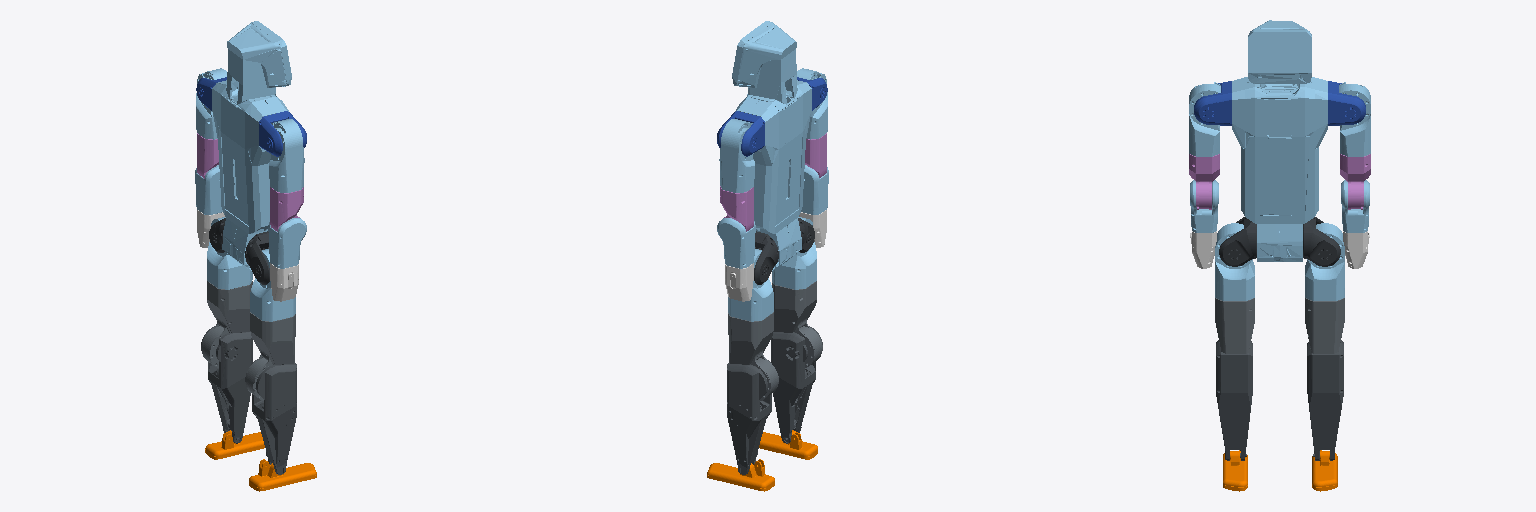
--- Facts derived from the render (not from the file) ---
3 views of the same robot in one strip: view 1: azimuth 30°, elevation 25°; view 2: azimuth 150°, elevation 25°; view 3: azimuth 270°, elevation 25° (orthographic).
Robot: kbot-v2 — 23 links, 22 joints (10 revolute, 12 fixed); root link floating_base_link; default pose: all joints at 0.
Links seen in each view (by area): view 1: KB_B_102B_TORSO_BOTTOM, KB_D_401R_R_Shin_Drive, KB_D_402L_L_Shin_Idle, KB_D_301L_L_Femur_Lower_Drive, KB_D_301R_R_Femur_Lower_Drive, RS03_5, R_Forearm_Upper_Structural, RS03_4, RS03_3, KB_D_501R_R_LEG_FOOT, L_Forearm_Upper_Drive, R_Bicep_Lower_Drive (+6 smaller); view 2: KB_B_102B_TORSO_BOTTOM, KB_D_402L_L_Shin_Idle, KB_D_401R_R_Shin_Drive, KB_D_301R_R_Femur_Lower_Drive, KB_D_301L_L_Femur_Lower_Drive, RS03_6, L_Forearm_Upper_Drive, RS03_3, RS03_4, KB_D_501L_L_LEG_FOOT, R_Forearm_Upper_Structural, L_Bicep_Lower_Drive (+6 smaller); view 3: KB_B_102B_TORSO_BOTTOM, KB_D_401R_R_Shin_Drive, KB_D_402L_L_Shin_Idle, KB_D_301R_R_Femur_Lower_Drive, KB_D_301L_L_Femur_Lower_Drive, RS03_3, RS03_4, RS03_5, RS03_6, KB_D_102R_R_Hip_Yoke_Drive, KB_D_102L_L_Hip_Yoke_Drive, YOKE_STOP_INNER (+9 smaller).
Link boxes in pixels (x1,y1,x2,y2): KB_B_102B_TORSO_BOTTOM: (212,21,291,270); KB_D_401R_R_Shin_Drive: (252,359,296,474); KB_D_402L_L_Shin_Idle: (201,326,252,443); KB_D_301L_L_Femur_Lower_Drive: (201,281,252,367); KB_D_301R_R_Femur_Lower_Drive: (245,312,295,400); RS03_5: (269,119,304,192); R_Forearm_Upper_Structural: (268,218,306,268); RS03_4: (207,217,252,289); RS03_3: (250,249,295,321); KB_D_501R_R_LEG_FOOT: (249,459,316,491); L_Forearm_Upper_Drive: (195,165,222,214); R_Bicep_Lower_Drive: (270,187,303,231); KB_B_102B_TORSO_BOTTOM: (732,21,811,270); KB_D_402L_L_Shin_Idle: (727,360,771,474); KB_D_401R_R_Shin_Drive: (771,326,822,443); KB_D_301R_R_Femur_Lower_Drive: (772,281,822,367); KB_D_301L_L_Femur_Lower_Drive: (728,312,778,400); RS03_6: (719,119,754,192); L_Forearm_Upper_Drive: (717,218,755,268); RS03_3: (772,217,816,289); RS03_4: (728,249,773,321); KB_D_501L_L_LEG_FOOT: (707,459,774,491); R_Forearm_Upper_Structural: (801,165,828,214); L_Bicep_Lower_Drive: (720,186,753,231); KB_B_102B_TORSO_BOTTOM: (1232,20,1327,261); KB_D_401R_R_Shin_Drive: (1216,340,1252,460); KB_D_402L_L_Shin_Idle: (1307,340,1343,460); KB_D_301R_R_Femur_Lower_Drive: (1215,298,1254,353); KB_D_301L_L_Femur_Lower_Drive: (1305,298,1344,353); RS03_3: (1215,223,1254,300); RS03_4: (1305,223,1344,300); RS03_5: (1189,82,1220,156); RS03_6: (1339,82,1370,156); KB_D_102R_R_Hip_Yoke_Drive: (1219,217,1256,266); KB_D_102L_L_Hip_Yoke_Drive: (1303,217,1340,266); YOKE_STOP_INNER: (1194,81,1231,125).
Bounding box of the posed robot: 0.2262 × 0.5159 × 1.4 m (x, y, z).
Meshes: 22 distinct files referenced, 22 mesh visuals loaded (22 binary STL).

robot.urdf — kbot-v2:
<robot name="kbot-v2">
  <link name="floating_base_link">
  </link>
  <joint name="floating_base_joint" type="fixed">
    <parent link="floating_base_link" />
    <child link="KB_B_102B_TORSO_BOTTOM" />
    <origin xyz="0 0 0" rpy="0.00 0.00 -1.570796" />
  </joint>
  <joint name="right_shoulder_pitch_03" type="fixed">
    <origin xyz="0.120950 -0.000737 0.337507" rpy="-1.570796 0 1.570796" />
    <parent link="KB_B_102B_TORSO_BOTTOM" />
    <child link="YOKE_STOP_INNER" />
    <limit effort="60" velocity="6.283" lower="-2.617994" upper="2.094395" />
    <axis xyz="0 0 1" />
  </joint>
  <joint name="left_shoulder_pitch_03" type="fixed">
    <origin xyz="-0.120950 -0.000737 0.337507" rpy="1.570796 0 1.570796" />
    <parent link="KB_B_102B_TORSO_BOTTOM" />
    <child link="YOKE_STOP_INNER_2" />
    <limit effort="60" velocity="6.283" lower="-2.094395" upper="2.617994" />
    <axis xyz="0 0 1" />
  </joint>
  <joint name="right_hip_pitch_04" type="revolute">
    <origin xyz="0.056000 -0.000737 -0.072993" rpy="1.570796 0 -1.570796" />
    <parent link="KB_B_102B_TORSO_BOTTOM" />
    <child link="KB_D_102R_R_Hip_Yoke_Drive" />
    <limit effort="60" velocity="18" lower="-1.919862" upper="1.570796" />
    <axis xyz="0 0 1" />
  <dynamics damping="0.0" friction="0" /></joint>
  <joint name="left_hip_pitch_04" type="revolute">
    <origin xyz="-0.056000 -0.000737 -0.072993" rpy="-1.570796 0 -1.570796" />
    <parent link="KB_B_102B_TORSO_BOTTOM" />
    <child link="KB_D_102L_L_Hip_Yoke_Drive" />
    <limit effort="60" velocity="18" lower="-1.570796" upper="1.919862" />
    <axis xyz="0 0 1" />
  <dynamics damping="0.0" friction="0" /></joint>
  <joint name="right_hip_roll_03" type="revolute">
    <origin xyz="-0.028250 -0.030000 -0.071000" rpy="0 -1.570796 0" />
    <parent link="KB_D_102R_R_Hip_Yoke_Drive" />
    <child link="RS03_3" />
    <limit effort="40" velocity="18" lower="0" upper="2.268928" />
    <axis xyz="0 0 -1.0" />
  <dynamics damping="0.0" friction="0" /></joint>
  <joint name="left_hip_roll_03" type="revolute">
    <origin xyz="-0.028250 0.030000 -0.071000" rpy="3.141593 1.570796 0" />
    <parent link="KB_D_102L_L_Hip_Yoke_Drive" />
    <child link="RS03_4" />
    <limit effort="40" velocity="18" lower="-2.268928" upper="0" />
    <axis xyz="0 0 -1.0" />
  <dynamics damping="0.0" friction="0" /></joint>
  <joint name="imu_link" type="fixed">
    <origin xyz="-0.028807 -0.009800 0.452404" rpy="1.570796 0 -1.570796" />
    <parent link="KB_B_102B_TORSO_BOTTOM" />
    <child link="imu" />
  </joint>
  <joint name="right_shoulder_roll_03" type="fixed">
    <origin xyz="0.024250 0 -0.080000" rpy="-3.141593 -1.570796 0" />
    <parent link="YOKE_STOP_INNER" />
    <child link="RS03_5" />
    <limit effort="60" velocity="6.283" lower="-0.488692" upper="1.658063" />
    <axis xyz="0 0 -1.0" />
  </joint>
  <joint name="left_shoulder_roll_03" type="fixed">
    <origin xyz="0.024250 0 -0.080000" rpy="0 1.570796 0" />
    <parent link="YOKE_STOP_INNER_2" />
    <child link="RS03_6" />
    <limit effort="60" velocity="6.283" lower="-1.658063" upper="0.488692" />
    <axis xyz="0 0 -1.0" />
  </joint>
  <joint name="right_hip_yaw_03" type="revolute">
    <origin xyz="0 -0.142750 -0.029800" rpy="1.570796 0 0" />
    <parent link="RS03_3" />
    <child link="KB_D_301R_R_Femur_Lower_Drive" />
    <limit effort="40" velocity="18" lower="-1.570796" upper="1.570796" />
    <axis xyz="0 0 -1" />
  <dynamics damping="0.0" friction="0" /></joint>
  <joint name="right_shoulder_yaw_02" type="fixed">
    <origin xyz="-0.013000 -0.142000 -0.030250" rpy="-1.570796 0 0" />
    <parent link="RS03_5" />
    <child link="R_Bicep_Lower_Drive" />
    <limit effort="17" velocity="12.566" lower="-1.745329" upper="1.745329" />
    <axis xyz="0 0 1" />
  </joint>
  <joint name="left_hip_yaw_03" type="revolute">
    <origin xyz="0 -0.142750 -0.029800" rpy="1.570796 0 0" />
    <parent link="RS03_4" />
    <child link="KB_D_301L_L_Femur_Lower_Drive" />
    <limit effort="40" velocity="18" lower="-1.570796" upper="1.570796" />
    <axis xyz="0 0 -1" />
  <dynamics damping="0.0" friction="0" /></joint>
  <joint name="left_shoulder_yaw_02" type="fixed">
    <origin xyz="0.013000 -0.142000 -0.030250" rpy="-1.570796 0 0" />
    <parent link="RS03_6" />
    <child link="L_Bicep_Lower_Drive" />
    <limit effort="17" velocity="12.566" lower="-1.745329" upper="1.745329" />
    <axis xyz="0 0 1" />
  </joint>
  <joint name="right_knee_04" type="revolute">
    <origin xyz="0.020600 -0.021000 0.212000" rpy="1.570796 0 -1.570796" />
    <parent link="KB_D_301R_R_Femur_Lower_Drive" />
    <child link="KB_D_401R_R_Shin_Drive" />
    <limit effort="60" velocity="18" lower="-2.705260" upper="0" />
    <axis xyz="0 0 1" />
  <dynamics damping="0.0" friction="0" /></joint>
  <joint name="right_elbow_02" type="fixed">
    <origin xyz="0.018500 -0.010000 -0.137000" rpy="-1.570796 0 1.570796" />
    <parent link="R_Bicep_Lower_Drive" />
    <child link="R_Forearm_Upper_Structural" />
    <limit effort="17" velocity="12.566" lower="0" upper="2.530727" />
    <axis xyz="0 0 1" />
  </joint>
  <joint name="left_knee_04" type="revolute">
    <origin xyz="0.043200 -0.021000 0.212000" rpy="-1.570796 0 -1.570796" />
    <parent link="KB_D_301L_L_Femur_Lower_Drive" />
    <child link="KB_D_402L_L_Shin_Idle" />
    <limit effort="60" velocity="18" lower="0" upper="2.705260" />
    <axis xyz="0 0 1.0" />
  <dynamics damping="0.0" friction="0" /></joint>
  <joint name="right_wrist_02" type="fixed">
    <origin xyz="0.017350 0.107700 0.018000" rpy="1.570796 1.570796 0" />
    <parent link="R_Forearm_Upper_Structural" />
    <child link="KB_C_501X_Bayonet_Adapter_Hard_Stop" />
    <limit effort="17" velocity="12.566" lower="-1.745329" upper="1.745329" />
    <axis xyz="0 0 1" />
  </joint>
  <joint name="left_elbow_02" type="fixed">
    <origin xyz="-0.018500 -0.010000 -0.137000" rpy="1.570796 0 1.570796" />
    <parent link="L_Bicep_Lower_Drive" />
    <child link="L_Forearm_Upper_Drive" />
    <limit effort="17" velocity="12.566" lower="-2.530727" upper="0" />
    <axis xyz="0 0 1" />
  </joint>
  <joint name="right_ankle_02" type="revolute">
    <origin xyz="-0.031300 0.292500 0.034000" rpy="0 0 0" />
    <parent link="KB_D_401R_R_Shin_Drive" />
    <child link="KB_D_501R_R_LEG_FOOT" />
    <limit effort="17" velocity="18" lower="-0.296706" upper="0.785398" />
    <axis xyz="0 0 1" />
  <dynamics damping="0.0" friction="0.1" /></joint>
  <joint name="left_ankle_02" type="revolute">
    <origin xyz="-0.031300 -0.292500 -0.057200" rpy="0 0 0" />
    <parent link="KB_D_402L_L_Shin_Idle" />
    <child link="KB_D_501L_L_LEG_FOOT" />
    <limit effort="17" velocity="18" lower="-0.785398" upper="0.296706" />
    <axis xyz="0 0 1.0" />
  <dynamics damping="0.0" friction="0.1" /></joint>
  <joint name="left_wrist_02" type="fixed">
    <origin xyz="0.017350 -0.106500 0.018000" rpy="1.570796 -1.570796 0" />
    <parent link="L_Forearm_Upper_Drive" />
    <child link="KB_C_501X_Bayonet_Adapter_Hard_Stop_2" />
    <limit effort="17" velocity="12.566" lower="-1.745329" upper="1.745329" />
    <axis xyz="0 0 -1" />
  </joint>
  <link name="KB_B_102B_TORSO_BOTTOM">
    <visual name="KB_B_102B_TORSO_BOTTOM_visual">
      <origin xyz="0 0 0" rpy="0 0 0" />
      <geometry name="KB_B_102B_TORSO_BOTTOM_geometry">
        <mesh filename="meshes/KB_B_102B_TORSO_BOTTOM.stl" />
      </geometry>
      <material name="KB_B_102B_TORSO_BOTTOM_material">
        <color rgba="0.615686 0.811765 0.929412 1" />
      </material>
    </visual>
    <collision name="KB_B_102B_TORSO_BOTTOM.collision">
      <origin xyz="0 0 0" rpy="0 0 0" />
      <geometry name="KB_B_102B_TORSO_BOTTOM_collision_geometry">
        <mesh filename="meshes/KB_B_102B_TORSO_BOTTOM.collision.stl" />
      </geometry>
    </collision>
    <inertial name="KB_B_102B_TORSO_BOTTOM_inertial">
      <mass value="15.673149" />
      <inertia ixx="0.641650" iyy="0.678247" izz="0.075462" ixy="-0.000140" ixz="-0.001514" iyz="-0.014715" />
      <origin xyz="0.000403 0.002187 0.165184" rpy="0 0 0" />
    </inertial>
  </link>
  <link name="YOKE_STOP_INNER">
    <visual name="YOKE_STOP_INNER_visual">
      <origin xyz="0 0 0" rpy="0 0 0" />
      <geometry name="YOKE_STOP_INNER_geometry">
        <mesh filename="meshes/YOKE_STOP_INNER.stl" />
      </geometry>
      <material name="YOKE_STOP_INNER_material">
        <color rgba="0.231373 0.380392 0.705882 1" />
      </material>
    </visual>
    <inertial name="YOKE_STOP_INNER_inertial">
      <mass value="0.585630" />
      <inertia ixx="0.001005" iyy="0.001376" izz="0.001140" ixy="-0.000021" ixz="0.000099" iyz="0.000039" />
      <origin xyz="0.006667 -0.003840 -0.041983" rpy="0 0 0" />
    </inertial>
  </link>
  <link name="YOKE_STOP_INNER_2">
    <visual name="YOKE_STOP_INNER_visual_2">
      <origin xyz="0 0 0" rpy="0 0 0" />
      <geometry name="YOKE_STOP_INNER_geometry_2">
        <mesh filename="meshes/YOKE_STOP_INNER_2.stl" />
      </geometry>
      <material name="YOKE_STOP_INNER_material_2">
        <color rgba="0.231373 0.380392 0.705882 1" />
      </material>
    </visual>
    <inertial name="YOKE_STOP_INNER_inertial_2">
      <mass value="0.585652" />
      <inertia ixx="0.001005" iyy="0.001370" izz="0.001134" ixy="0.000021" ixz="0.000101" iyz="-0.000039" />
      <origin xyz="0.006762 0.003839 -0.041982" rpy="0 0 0" />
    </inertial>
  </link>
  <link name="KB_D_102R_R_Hip_Yoke_Drive">
    <visual name="KB_D_102R_R_Hip_Yoke_Drive_visual">
      <origin xyz="0 0 0" rpy="0 0 0" />
      <geometry name="KB_D_102R_R_Hip_Yoke_Drive_geometry">
        <mesh filename="meshes/KB_D_102R_R_Hip_Yoke_Drive.stl" />
      </geometry>
      <material name="KB_D_102R_R_Hip_Yoke_Drive_material">
        <color rgba="0.262745 0.282353 0.301961 1" />
      </material>
    </visual>
    <inertial name="KB_D_102R_R_Hip_Yoke_Drive_inertial">
      <mass value="0.710534" />
      <inertia ixx="0.001285" iyy="0.001550" izz="0.001729" ixy="-0.000087" ixz="-0.000094" iyz="-0.000252" />
      <origin xyz="-0.005187 -0.002374 -0.039157" rpy="0 0 0" />
    </inertial>
  </link>
  <link name="KB_D_102L_L_Hip_Yoke_Drive">
    <visual name="KB_D_102L_L_Hip_Yoke_Drive_visual">
      <origin xyz="0 0 0" rpy="0 0 0" />
      <geometry name="KB_D_102L_L_Hip_Yoke_Drive_geometry">
        <mesh filename="meshes/KB_D_102L_L_Hip_Yoke_Drive.stl" />
      </geometry>
      <material name="KB_D_102L_L_Hip_Yoke_Drive_material">
        <color rgba="0.262745 0.282353 0.301961 1" />
      </material>
    </visual>
    <inertial name="KB_D_102L_L_Hip_Yoke_Drive_inertial">
      <mass value="0.710534" />
      <inertia ixx="0.001287" iyy="0.001544" izz="0.001726" ixy="0.000087" ixz="-0.000096" iyz="0.000253" />
      <origin xyz="-0.005269 0.002433 -0.039157" rpy="0 0 0" />
    </inertial>
  </link>
  <link name="RS03_3">
    <visual name="RS03_visual_3">
      <origin xyz="0 0 0" rpy="0 0 0" />
      <geometry name="RS03_geometry_3">
        <mesh filename="meshes/RS03_3.stl" />
      </geometry>
      <material name="RS03_material_3">
        <color rgba="0.615686 0.811765 0.929412 1" />
      </material>
    </visual>
    <collision name="RS03.collision_3">
      <origin xyz="0 0 0" rpy="0 0 0" />
      <geometry name="RS03_collision_geometry_3">
        <mesh filename="meshes/RS03_3.collision.stl" />
      </geometry>
    </collision>
    <inertial name="RS03_inertial_3">
      <mass value="2.590316" />
      <inertia ixx="0.011063" iyy="0.003804" izz="0.011580" ixy="-0.000058" ixz="0.000001" iyz="-0.000098" />
      <origin xyz="-0.000677 -0.058256 -0.028289" rpy="0 0 0" />
    </inertial>
  </link>
  <link name="RS03_4">
    <visual name="RS03_visual_4">
      <origin xyz="0 0 0" rpy="0 0 0" />
      <geometry name="RS03_geometry_4">
        <mesh filename="meshes/RS03_4.stl" />
      </geometry>
      <material name="RS03_material_4">
        <color rgba="0.615686 0.811765 0.929412 1" />
      </material>
    </visual>
    <collision name="RS03.collision_4">
      <origin xyz="0 0 0" rpy="0 0 0" />
      <geometry name="RS03_collision_geometry_4">
        <mesh filename="meshes/RS03_4.collision.stl" />
      </geometry>
    </collision>
    <inertial name="RS03_inertial_4">
      <mass value="2.590429" />
      <inertia ixx="0.011064" iyy="0.003804" izz="0.011580" ixy="0.000058" ixz="0" iyz="-0.000098" />
      <origin xyz="0.000677 -0.058257 -0.028289" rpy="0 0 0" />
    </inertial>
  </link>
  <link name="imu">
    <visual name="imu_visual">
      <origin xyz="0 0 0" rpy="0 0 0" />
      <geometry name="imu_geometry">
        <mesh filename="meshes/imu.stl" />
      </geometry>
      <material name="imu_material">
        <color rgba="0.615686 0.811765 0.929412 1" />
      </material>
    </visual>
    <inertial name="imu_inertial">
      <mass value="0.005700" />
      <inertia ixx="0.000001" iyy="0.000001" izz="0.000002" ixy="0" ixz="0" iyz="0" />
      <origin xyz="0.012000 -0.014737 0.003000" rpy="0 0 0" />
    </inertial>
  </link>
  <link name="RS03_5">
    <visual name="RS03_visual_5">
      <origin xyz="0 0 0" rpy="0 0 0" />
      <geometry name="RS03_geometry_5">
        <mesh filename="meshes/RS03_5.stl" />
      </geometry>
      <material name="RS03_material_5">
        <color rgba="0.615686 0.811765 0.929412 1" />
      </material>
    </visual>
    <collision name="RS03.collision_5">
      <origin xyz="0 0 0" rpy="0 0 0" />
      <geometry name="RS03_collision_geometry_5">
        <mesh filename="meshes/RS03_5.collision.stl" />
      </geometry>
    </collision>
    <inertial name="RS03_inertial_5">
      <mass value="1.888573" />
      <inertia ixx="0.007759" iyy="0.002169" izz="0.008277" ixy="-0.000685" ixz="-0.000014" iyz="-0.000022" />
      <origin xyz="-0.005670 -0.043712 -0.030222" rpy="0 0 0" />
    </inertial>
  </link>
  <link name="RS03_6">
    <visual name="RS03_visual_6">
      <origin xyz="0 0 0" rpy="0 0 0" />
      <geometry name="RS03_geometry_6">
        <mesh filename="meshes/RS03_6.stl" />
      </geometry>
      <material name="RS03_material_6">
        <color rgba="0.615686 0.811765 0.929412 1" />
      </material>
    </visual>
    <collision name="RS03.collision_6">
      <origin xyz="0 0 0" rpy="0 0 0" />
      <geometry name="RS03_collision_geometry_6">
        <mesh filename="meshes/RS03_6.collision.stl" />
      </geometry>
    </collision>
    <inertial name="RS03_inertial_6">
      <mass value="1.888599" />
      <inertia ixx="0.007765" iyy="0.002169" izz="0.008283" ixy="0.000686" ixz="0.000014" iyz="-0.000022" />
      <origin xyz="0.005670 -0.043728 -0.030222" rpy="0 0 0" />
    </inertial>
  </link>
  <link name="KB_D_301R_R_Femur_Lower_Drive">
    <visual name="KB_D_301R_R_Femur_Lower_Drive_visual">
      <origin xyz="0 0 0" rpy="0 0 0" />
      <geometry name="KB_D_301R_R_Femur_Lower_Drive_geometry">
        <mesh filename="meshes/KB_D_301R_R_Femur_Lower_Drive.stl" />
      </geometry>
      <material name="KB_D_301R_R_Femur_Lower_Drive_material">
        <color rgba="0.439216 0.474510 0.501961 1" />
      </material>
    </visual>
    <inertial name="KB_D_301R_R_Femur_Lower_Drive_inertial">
      <mass value="2.556834" />
      <inertia ixx="0.018026" iyy="0.016368" izz="0.004729" ixy="-0.000235" ixz="0.001247" iyz="0.001844" />
      <origin xyz="0.000139 -0.010511 0.162474" rpy="0 0 0" />
    </inertial>
  </link>
  <link name="R_Bicep_Lower_Drive">
    <visual name="R_Bicep_Lower_Drive_visual">
      <origin xyz="0 0 0" rpy="0 0 0" />
      <geometry name="R_Bicep_Lower_Drive_geometry">
        <mesh filename="meshes/R_Bicep_Lower_Drive.stl" />
      </geometry>
      <material name="R_Bicep_Lower_Drive_material">
        <color rgba="0.764706 0.545098 0.803922 1" />
      </material>
    </visual>
    <inertial name="R_Bicep_Lower_Drive_inertial">
      <mass value="0.863923" />
      <inertia ixx="0.003004" iyy="0.002789" izz="0.000894" ixy="-0.000019" ixz="-0.000191" iyz="-0.000163" />
      <origin xyz="0.001741 -0.003128 -0.096105" rpy="0 0 0" />
    </inertial>
  </link>
  <link name="KB_D_301L_L_Femur_Lower_Drive">
    <visual name="KB_D_301L_L_Femur_Lower_Drive_visual">
      <origin xyz="0 0 0" rpy="0 0 0" />
      <geometry name="KB_D_301L_L_Femur_Lower_Drive_geometry">
        <mesh filename="meshes/KB_D_301L_L_Femur_Lower_Drive.stl" />
      </geometry>
      <material name="KB_D_301L_L_Femur_Lower_Drive_material">
        <color rgba="0.439216 0.474510 0.501961 1" />
      </material>
    </visual>
    <inertial name="KB_D_301L_L_Femur_Lower_Drive_inertial">
      <mass value="2.556767" />
      <inertia ixx="0.018025" iyy="0.016367" izz="0.004728" ixy="0.000234" ixz="-0.001247" iyz="0.001844" />
      <origin xyz="-0.000139 -0.010511 0.162476" rpy="0 0 0" />
    </inertial>
  </link>
  <link name="L_Bicep_Lower_Drive">
    <visual name="L_Bicep_Lower_Drive_visual">
      <origin xyz="0 0 0" rpy="0 0 0" />
      <geometry name="L_Bicep_Lower_Drive_geometry">
        <mesh filename="meshes/L_Bicep_Lower_Drive.stl" />
      </geometry>
      <material name="L_Bicep_Lower_Drive_material">
        <color rgba="0.764706 0.545098 0.803922 1" />
      </material>
    </visual>
    <inertial name="L_Bicep_Lower_Drive_inertial">
      <mass value="0.864297" />
      <inertia ixx="0.003004" iyy="0.002790" izz="0.000895" ixy="0.000019" ixz="0.000190" iyz="-0.000163" />
      <origin xyz="-0.001724 -0.003123 -0.096088" rpy="0 0 0" />
    </inertial>
  </link>
  <link name="KB_D_401R_R_Shin_Drive">
    <visual name="KB_D_401R_R_Shin_Drive_visual">
      <origin xyz="0 0 0" rpy="0 0 0" />
      <geometry name="KB_D_401R_R_Shin_Drive_geometry">
        <mesh filename="meshes/KB_D_401R_R_Shin_Drive.stl" />
      </geometry>
      <material name="KB_D_401R_R_Shin_Drive_material">
        <color rgba="0.349020 0.376471 0.400000 1" />
      </material>
    </visual>
    <collision name="KB_D_401R_R_Shin_Drive.collision">
      <origin xyz="0 0 0" rpy="0 0 0" />
      <geometry name="KB_D_401R_R_Shin_Drive_collision_geometry">
        <mesh filename="meshes/KB_D_401R_R_Shin_Drive.collision.stl" />
      </geometry>
    </collision>
    <inertial name="KB_D_401R_R_Shin_Drive_inertial">
      <mass value="2.016717" />
      <inertia ixx="0.017602" iyy="0.003759" izz="0.017275" ixy="0.000538" ixz="-0.000046" iyz="-0.000380" />
      <origin xyz="-0.026847 0.095560 0.020795" rpy="0 0 0" />
    </inertial>
  </link>
  <link name="R_Forearm_Upper_Structural">
    <visual name="R_Forearm_Upper_Structural_visual">
      <origin xyz="0 0 0" rpy="0 0 0" />
      <geometry name="R_Forearm_Upper_Structural_geometry">
        <mesh filename="meshes/R_Forearm_Upper_Structural.stl" />
      </geometry>
      <material name="R_Forearm_Upper_Structural_material">
        <color rgba="0.615686 0.811765 0.929412 1" />
      </material>
    </visual>
    <inertial name="R_Forearm_Upper_Structural_inertial">
      <mass value="0.676940" />
      <inertia ixx="0.001393" iyy="0.000690" izz="0.001383" ixy="-0.000048" ixz="-0.000016" iyz="-0.000074" />
      <origin xyz="0.016090 0.059049 0.014470" rpy="0 0 0" />
    </inertial>
  </link>
  <link name="KB_D_402L_L_Shin_Idle">
    <visual name="KB_D_402L_L_Shin_Idle_visual">
      <origin xyz="0 0 0" rpy="0 0 0" />
      <geometry name="KB_D_402L_L_Shin_Idle_geometry">
        <mesh filename="meshes/KB_D_402L_L_Shin_Idle.stl" />
      </geometry>
      <material name="KB_D_402L_L_Shin_Idle_material">
        <color rgba="0.349020 0.376471 0.400000 1" />
      </material>
    </visual>
    <collision name="KB_D_402L_L_Shin_Idle.collision">
      <origin xyz="0 0 0" rpy="0 0 0" />
      <geometry name="KB_D_402L_L_Shin_Idle_collision_geometry">
        <mesh filename="meshes/KB_D_402L_L_Shin_Idle.collision.stl" />
      </geometry>
    </collision>
    <inertial name="KB_D_402L_L_Shin_Idle_inertial">
      <mass value="2.016574" />
      <inertia ixx="0.017575" iyy="0.003732" izz="0.017275" ixy="-0.000538" ixz="-0.000046" iyz="0.000373" />
      <origin xyz="-0.026848 -0.095563 -0.042713" rpy="0 0 0" />
    </inertial>
  </link>
  <link name="KB_C_501X_Bayonet_Adapter_Hard_Stop">
    <visual name="KB_C_501X_Bayonet_Adapter_Hard_Stop_visual">
      <origin xyz="0 0 0" rpy="0 0 0" />
      <geometry name="KB_C_501X_Bayonet_Adapter_Hard_Stop_geometry">
        <mesh filename="meshes/KB_C_501X_Bayonet_Adapter_Hard_Stop.stl" />
      </geometry>
      <material name="KB_C_501X_Bayonet_Adapter_Hard_Stop_material">
        <color rgba="0.917647 0.917647 0.917647 1" />
      </material>
    </visual>
    <collision name="KB_C_501X_Bayonet_Adapter_Hard_Stop.collision">
      <origin xyz="0 0 0" rpy="0 0 0" />
      <geometry name="KB_C_501X_Bayonet_Adapter_Hard_Stop_collision_geometry">
        <mesh filename="meshes/KB_C_501X_Bayonet_Adapter_Hard_Stop.collision.stl" />
      </geometry>
    </collision>
    <inertial name="KB_C_501X_Bayonet_Adapter_Hard_Stop_inertial">
      <mass value="0.571799" />
      <inertia ixx="0.000750" iyy="0.000720" izz="0.000581" ixy="0" ixz="-0.000012" iyz="0" />
      <origin xyz="-0.002571 0.000004 -0.039371" rpy="0 0 0" />
    </inertial>
  </link>
  <link name="L_Forearm_Upper_Drive">
    <visual name="L_Forearm_Upper_Drive_visual">
      <origin xyz="0 0 0" rpy="0 0 0" />
      <geometry name="L_Forearm_Upper_Drive_geometry">
        <mesh filename="meshes/L_Forearm_Upper_Drive.stl" />
      </geometry>
      <material name="L_Forearm_Upper_Drive_material">
        <color rgba="0.615686 0.811765 0.929412 1" />
      </material>
    </visual>
    <inertial name="L_Forearm_Upper_Drive_inertial">
      <mass value="0.676937" />
      <inertia ixx="0.001393" iyy="0.000690" izz="0.001383" ixy="0.000048" ixz="-0.000016" iyz="0.000074" />
      <origin xyz="0.016089 -0.059049 0.014469" rpy="0 0 0" />
    </inertial>
  </link>
  <link name="KB_D_501R_R_LEG_FOOT">
    <visual name="KB_D_501R_R_LEG_FOOT_visual">
      <origin xyz="0 0 0" rpy="0 0 0" />
      <geometry name="KB_D_501R_R_LEG_FOOT_geometry">
        <mesh filename="meshes/KB_D_501R_R_LEG_FOOT.stl" />
      </geometry>
      <material name="KB_D_501R_R_LEG_FOOT_material">
        <color rgba="0.972549 0.529412 0.003922 1" />
      </material>
    </visual>
    <collision name="KB_D_501R_R_LEG_FOOT.collision">
      <origin xyz="0 0 0" rpy="0 0 0" />
      <geometry name="KB_D_501R_R_LEG_FOOT_collision_geometry">
        <mesh filename="meshes/KB_D_501R_R_LEG_FOOT.collision.stl" />
      </geometry>
    </collision>
    <inertial name="KB_D_501R_R_LEG_FOOT_inertial">
      <mass value="0.492747" />
      <inertia ixx="0.000283" iyy="0.001560" izz="0.001485" ixy="0.000085" ixz="0.000021" iyz="-0.000018" />
      <origin xyz="-0.013265 0.028578 -0.016056" rpy="0 0 0" />
    </inertial>
  </link>
  <link name="KB_D_501L_L_LEG_FOOT">
    <visual name="KB_D_501L_L_LEG_FOOT_visual">
      <origin xyz="0 0 0" rpy="0 0 0" />
      <geometry name="KB_D_501L_L_LEG_FOOT_geometry">
        <mesh filename="meshes/KB_D_501L_L_LEG_FOOT.stl" />
      </geometry>
      <material name="KB_D_501L_L_LEG_FOOT_material">
        <color rgba="0.972549 0.529412 0.003922 1" />
      </material>
    </visual>
    <collision name="KB_D_501L_L_LEG_FOOT.collision">
      <origin xyz="0 0 0" rpy="0 0 0" />
      <geometry name="KB_D_501L_L_LEG_FOOT_collision_geometry">
        <mesh filename="meshes/KB_D_501L_L_LEG_FOOT.collision.stl" />
      </geometry>
    </collision>
    <inertial name="KB_D_501L_L_LEG_FOOT_inertial">
      <mass value="0.492748" />
      <inertia ixx="0.000283" iyy="0.001560" izz="0.001485" ixy="-0.000085" ixz="0.000021" iyz="0.000018" />
      <origin xyz="-0.013265 -0.028578 0.011944" rpy="0 0 0" />
    </inertial>
  </link>
  <link name="KB_C_501X_Bayonet_Adapter_Hard_Stop_2">
    <visual name="KB_C_501X_Bayonet_Adapter_Hard_Stop_visual_2">
      <origin xyz="0 0 0" rpy="0 0 0" />
      <geometry name="KB_C_501X_Bayonet_Adapter_Hard_Stop_geometry_2">
        <mesh filename="meshes/KB_C_501X_Bayonet_Adapter_Hard_Stop_2.stl" />
      </geometry>
      <material name="KB_C_501X_Bayonet_Adapter_Hard_Stop_material_2">
        <color rgba="0.917647 0.917647 0.917647 1" />
      </material>
    </visual>
    <collision name="KB_C_501X_Bayonet_Adapter_Hard_Stop.collision_2">
      <origin xyz="0 0 0" rpy="0 0 0" />
      <geometry name="KB_C_501X_Bayonet_Adapter_Hard_Stop_collision_geometry_2">
        <mesh filename="meshes/KB_C_501X_Bayonet_Adapter_Hard_Stop_2.collision.stl" />
      </geometry>
    </collision>
    <inertial name="KB_C_501X_Bayonet_Adapter_Hard_Stop_inertial_2">
      <mass value="0.571799" />
      <inertia ixx="0.000750" iyy="0.000720" izz="0.000581" ixy="0" ixz="-0.000012" iyz="0" />
      <origin xyz="0.002571 0.000004 0.040871" rpy="0 0 0" />
    </inertial>
  </link>
</robot>
